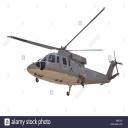helicopter: (7, 9, 126, 97)
